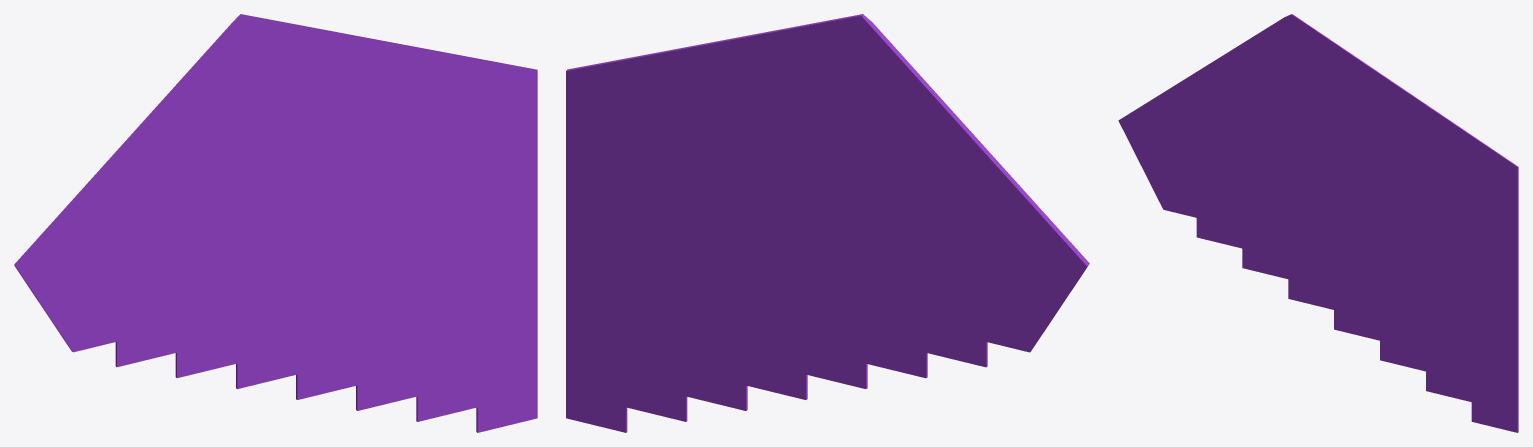
The model's file is Glass_78_6_chunks.fbx.
The picture shows the model from 3 angles, left to right: view 1: azimuth 30°, elevation 25°; view 2: azimuth 150°, elevation 25°; view 3: azimuth 330°, elevation 25°; orthographic projection. The views are drawn at different scales.
Parts seen in each view (by area): view 1: Glass_78_6_3, Glass_78_6_9, Glass_78_6_6, Glass_78_6_8, Glass_78_6_4, Glass_78_6_15, Glass_78_6_20, Glass_78_6_12, Glass_78_6_2, Glass_78_6_14, Glass_78_6_19, Glass_78_6_11 (+4 smaller); view 2: Glass_78_6_3, Glass_78_6_9, Glass_78_6_6, Glass_78_6_8, Glass_78_6_4, Glass_78_6_15, Glass_78_6_20, Glass_78_6_12, Glass_78_6_2, Glass_78_6_14, Glass_78_6_19, Glass_78_6_11 (+4 smaller); view 3: Glass_78_6_3, Glass_78_6_9, Glass_78_6_6, Glass_78_6_8, Glass_78_6_4, Glass_78_6_15, Glass_78_6_20, Glass_78_6_12, Glass_78_6_2, Glass_78_6_19, Glass_78_6_14, Glass_78_6_11 (+4 smaller).
Boxes of the visible parts, box(x1,y1,x2,y2) form: Glass_78_6_3: box(14, 139, 192, 352); Glass_78_6_9: box(305, 31, 468, 224); Glass_78_6_6: box(127, 14, 331, 177); Glass_78_6_8: box(317, 175, 537, 363); Glass_78_6_4: box(166, 148, 314, 307); Glass_78_6_15: box(427, 319, 537, 432); Glass_78_6_20: box(444, 57, 537, 169); Glass_78_6_12: box(112, 263, 247, 378); Glass_78_6_2: box(277, 219, 434, 322); Glass_78_6_14: box(298, 334, 431, 421); Glass_78_6_19: box(473, 149, 537, 304); Glass_78_6_11: box(200, 320, 333, 399); Glass_78_6_3: box(911, 138, 1089, 352); Glass_78_6_9: box(635, 31, 797, 224); Glass_78_6_6: box(772, 14, 976, 179); Glass_78_6_8: box(566, 182, 784, 362); Glass_78_6_4: box(788, 142, 937, 307); Glass_78_6_15: box(566, 319, 676, 432); Glass_78_6_20: box(566, 56, 659, 168); Glass_78_6_12: box(857, 263, 992, 378); Glass_78_6_2: box(668, 217, 825, 323); Glass_78_6_14: box(672, 335, 804, 421); Glass_78_6_19: box(566, 150, 630, 306); Glass_78_6_11: box(769, 321, 903, 399); Glass_78_6_3: box(1118, 67, 1254, 216); Glass_78_6_9: box(1340, 60, 1465, 206); Glass_78_6_6: box(1205, 14, 1360, 120); Glass_78_6_8: box(1349, 203, 1518, 390); Glass_78_6_4: box(1234, 124, 1347, 209); Glass_78_6_15: box(1433, 331, 1518, 432); Glass_78_6_20: box(1446, 131, 1518, 227); Glass_78_6_12: box(1192, 201, 1295, 272); Glass_78_6_2: box(1319, 193, 1438, 303); Glass_78_6_19: box(1468, 226, 1518, 346); Glass_78_6_14: box(1335, 291, 1436, 393); Glass_78_6_11: box(1260, 250, 1361, 329).
Bounding box in the file's own units: 1176 × 1022 × 5.32.
